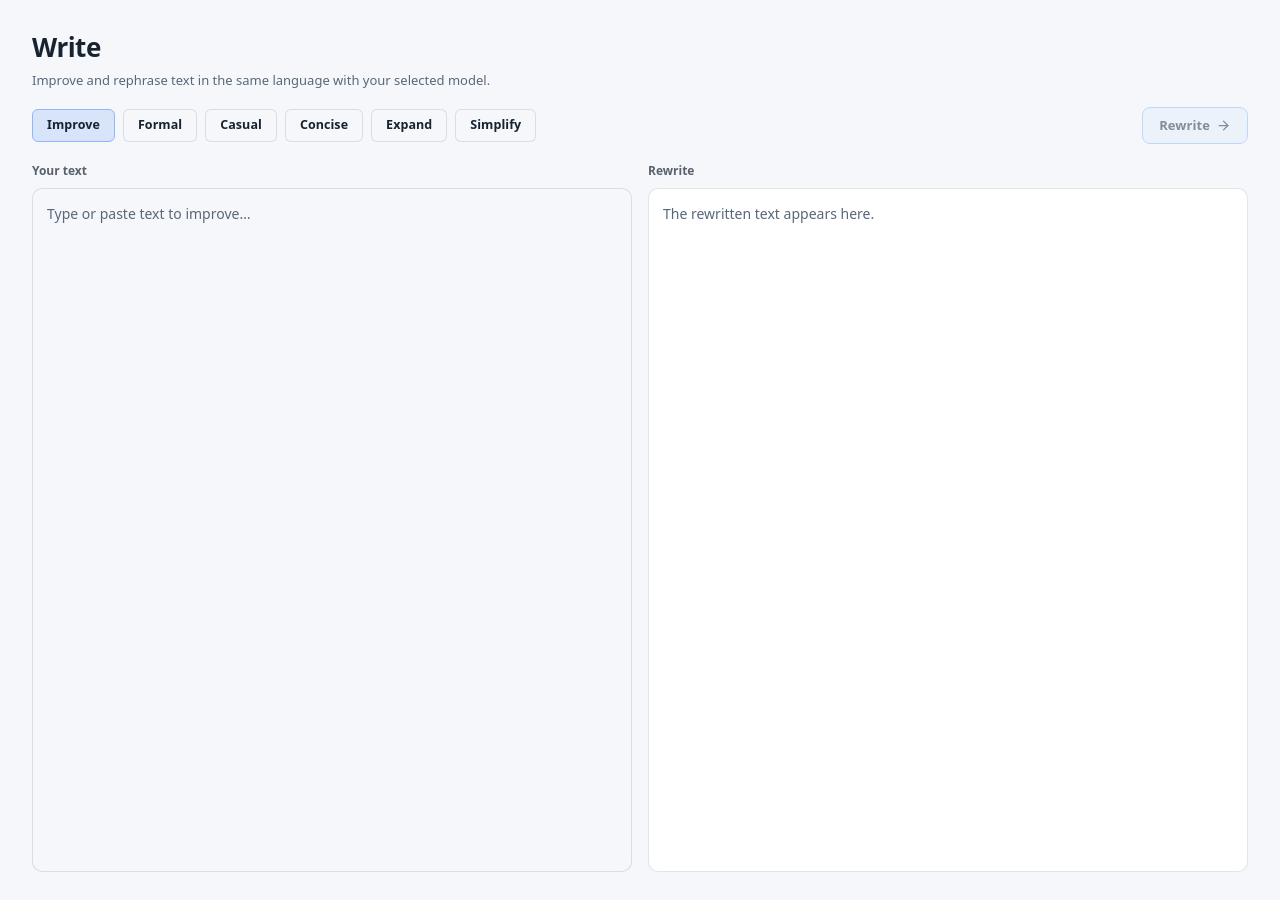
Test: Writing workflow › retains a successful result if a repeat request fails
Type "Original" into the text box at (332, 530), box top-left (32, 188), bottom-right (632, 872)
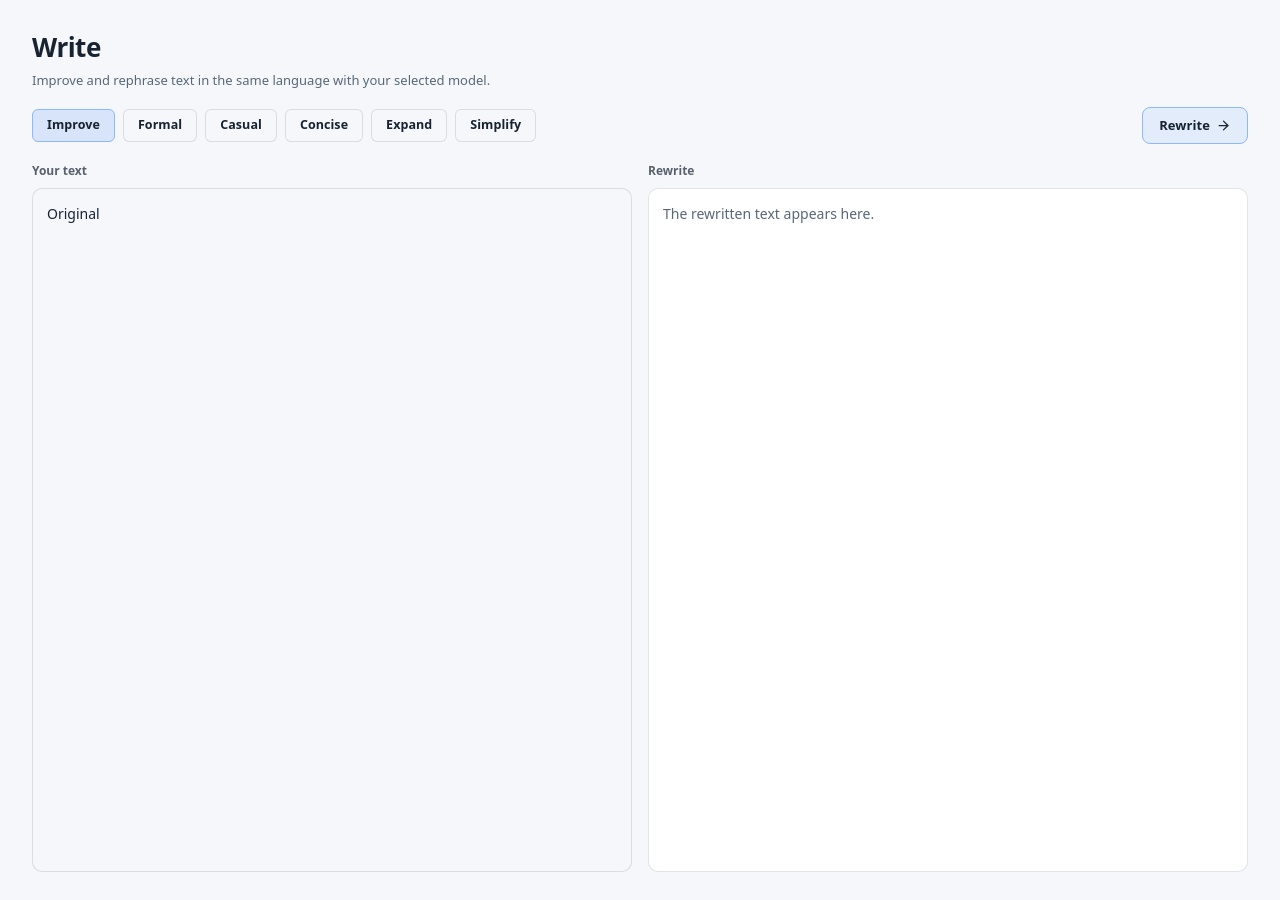
Click the button "Rewrite" at (1195, 125), box top-left (1142, 106), bottom-right (1248, 144)
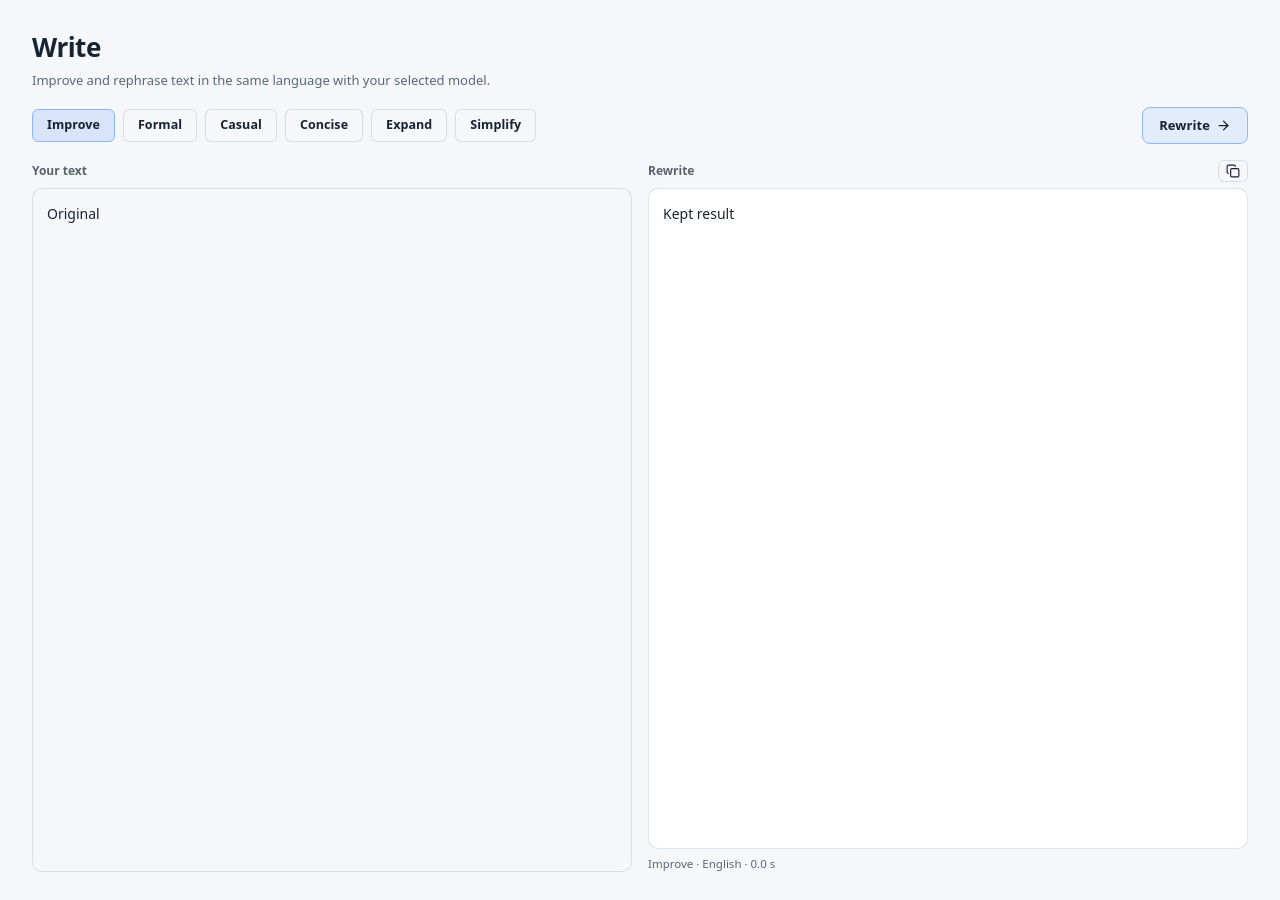
expect the text "Kept result" is shown: met, box top-left (648, 188), bottom-right (1248, 849)
Click the button "Rewrite" at (1195, 125), box top-left (1142, 106), bottom-right (1248, 144)
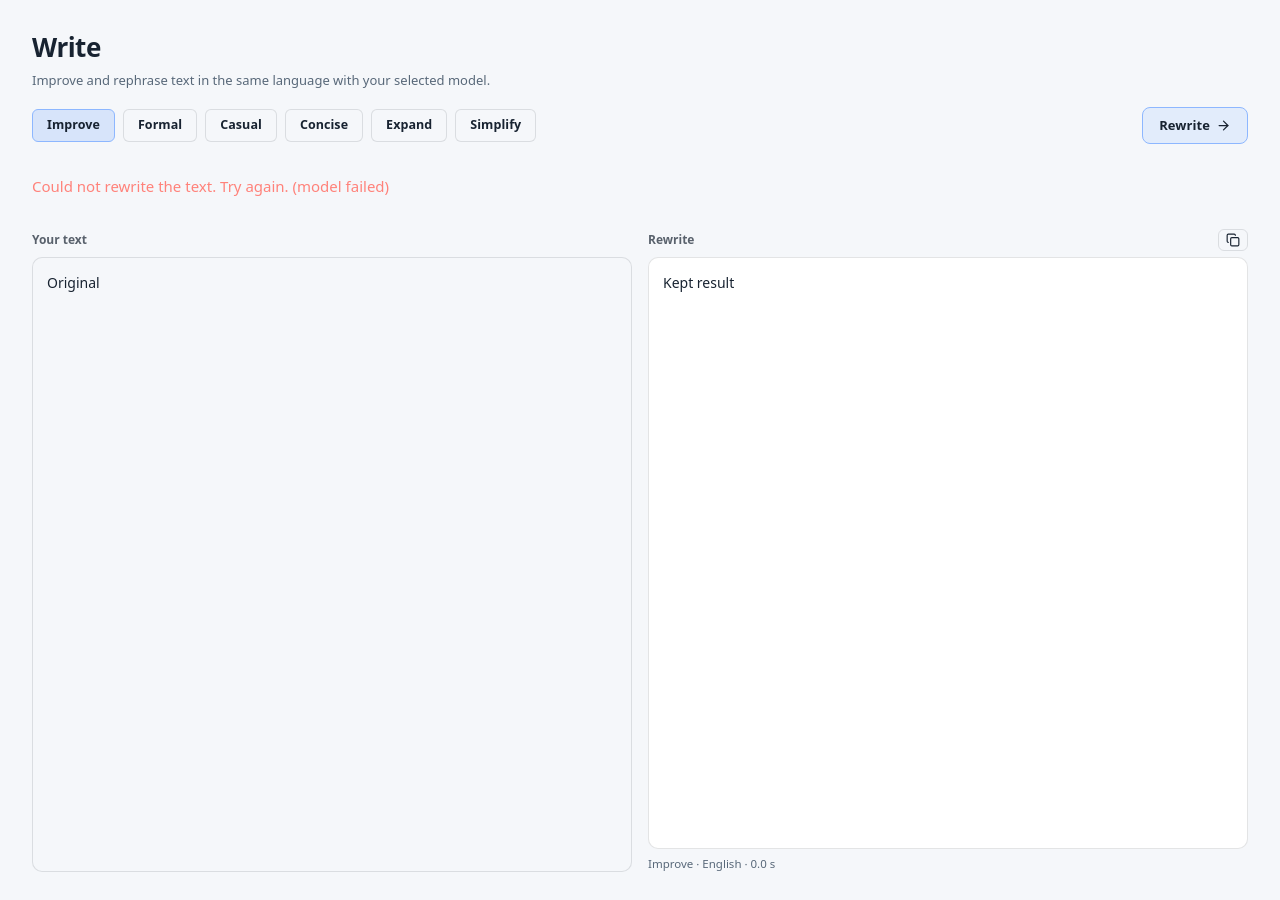
expect the text "Kept result" is shown: met, box top-left (648, 256), bottom-right (1248, 849)
expect the message shows "model failed": met, box top-left (32, 176), bottom-right (389, 196)
